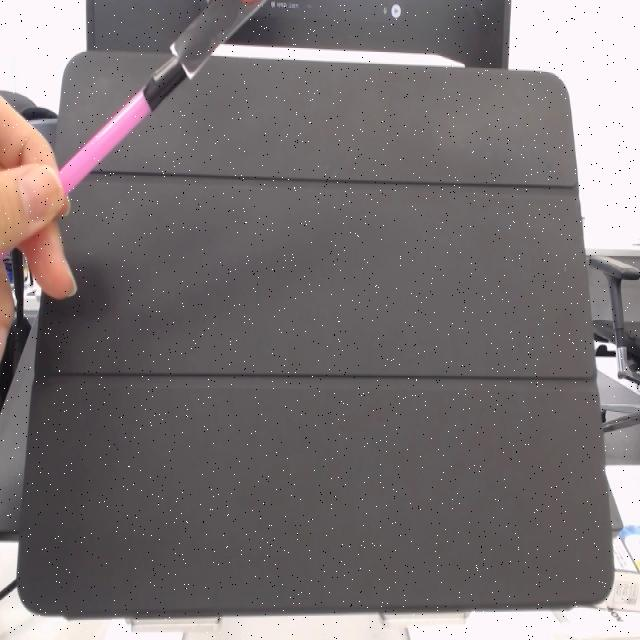traffic light: (171, 0, 268, 81)
